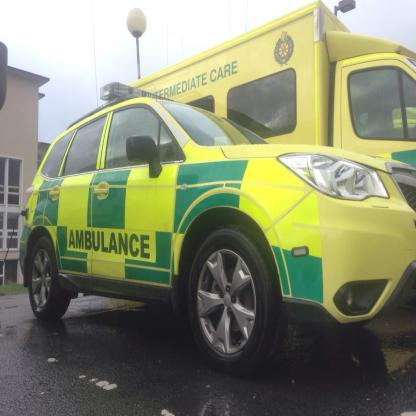Ambulance: (17, 79, 416, 386), (123, 0, 415, 168)
Car: (18, 81, 415, 367)
